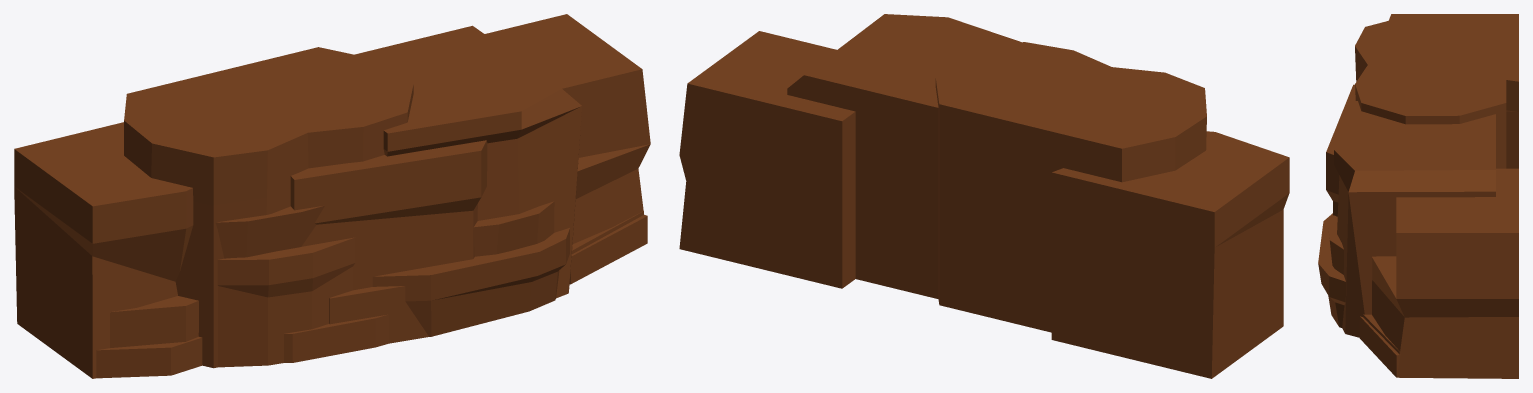
File: Cliff_01.fbx
3 renders of one model, left to right at view 1: azimuth 30°, elevation 25°; view 2: azimuth 150°, elevation 25°; view 3: azimuth 270°, elevation 25°, orthographic. The views are drawn at different scales.
Visible parts, largest first — view 1: Cliff_01; view 2: Cliff_01; view 3: Cliff_01.
Boxes of the visible parts, left/top/right/bottom form: Cliff_01: left=14, top=14, right=650, bottom=378; Cliff_01: left=679, top=14, right=1289, bottom=378; Cliff_01: left=1318, top=14, right=1518, bottom=378.
Bounding box in the file's own units: 2645 × 950 × 1009.
